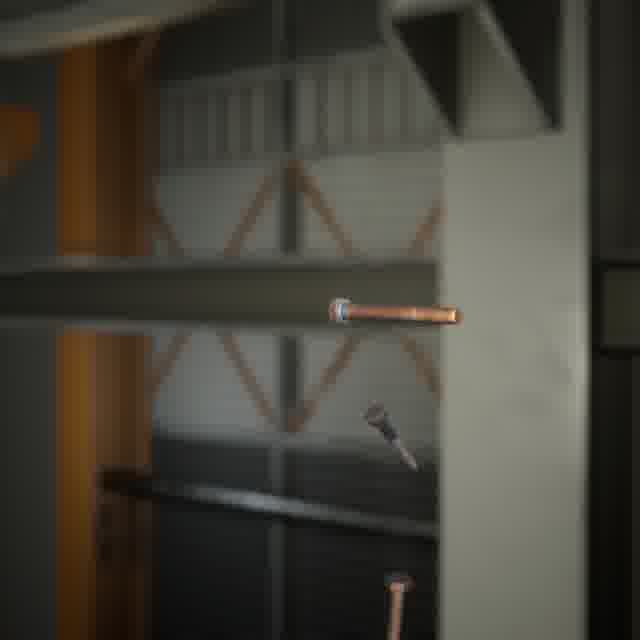bolt: (324, 293, 466, 328), (360, 400, 421, 474), (380, 568, 416, 640)
